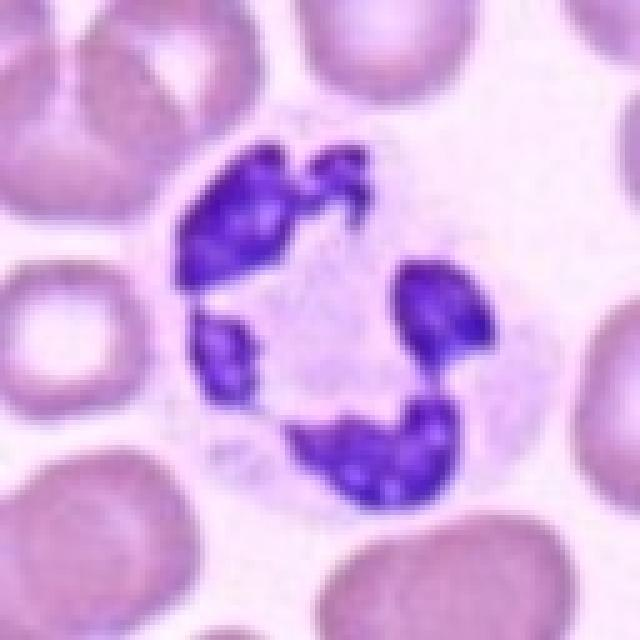neutro: (100, 102, 573, 565)
